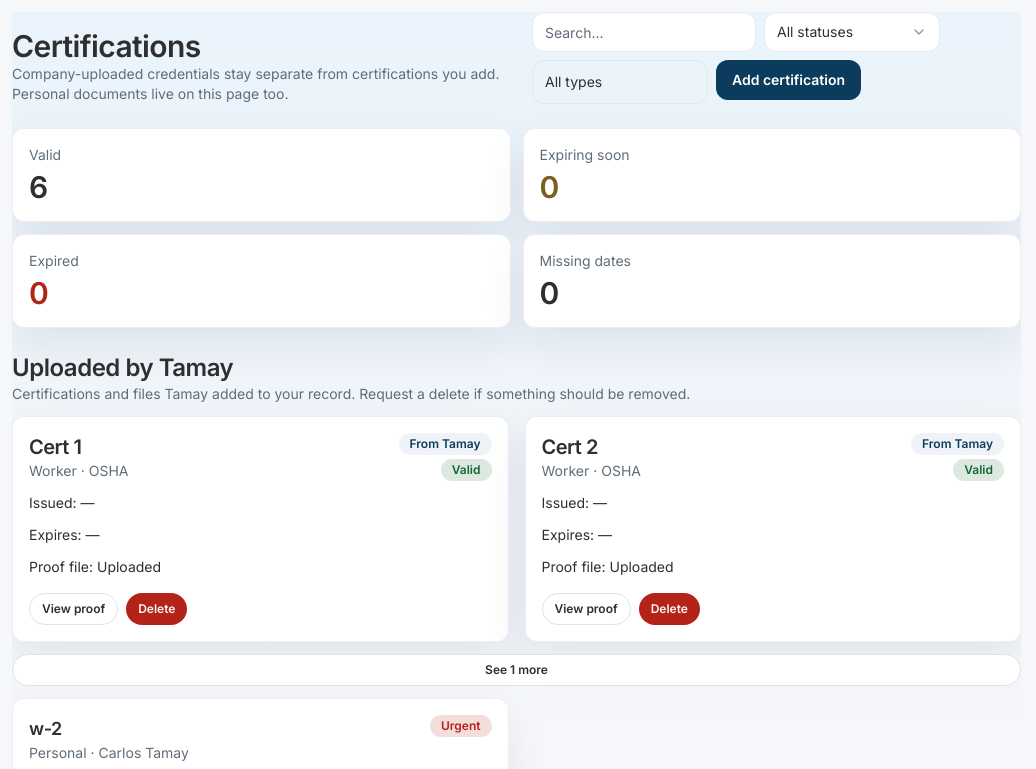
Test: Certifications list › separates Tamay uploads from the worker’s own certifications
Expected: the heading "Uploaded by Tamay" is shown, [12, 353, 233, 382]
Expected: the heading "w-2" is shown, [29, 718, 62, 739]
Click the button "See 1 more": point(516, 670) [12, 654, 1021, 686]
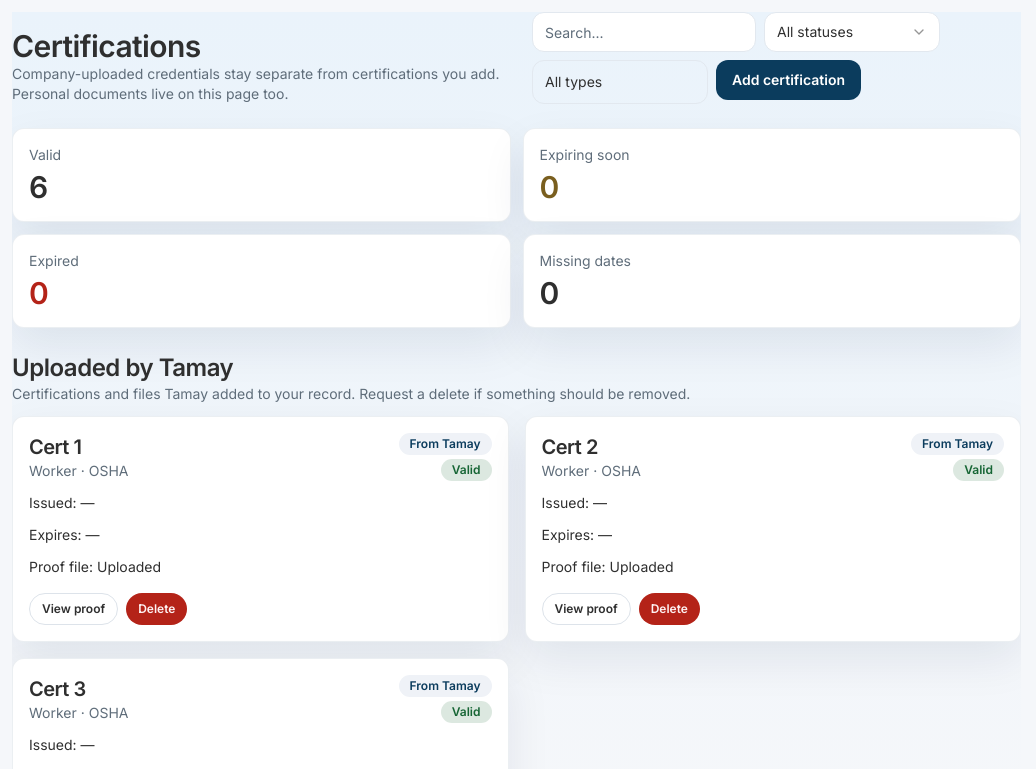
Expected: the heading "Cert 3" is shown, [29, 677, 86, 701]
